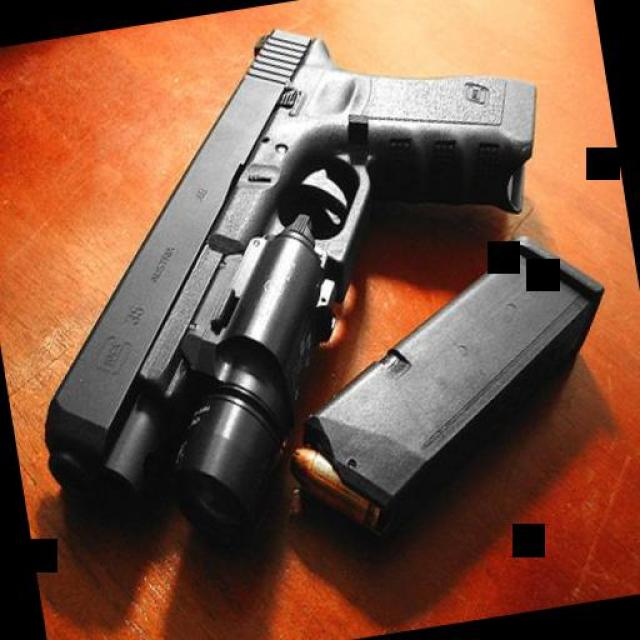gun: (0, 0, 595, 571)
